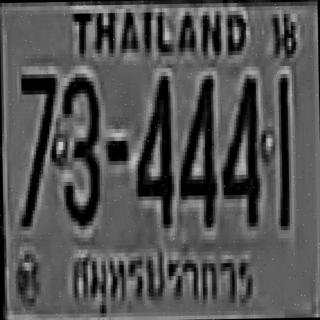N01: (276, 72, 290, 228)
N03: (58, 73, 99, 222)
N04: (176, 71, 215, 224), (134, 70, 172, 222), (219, 73, 258, 221)
N07: (18, 68, 58, 224), (19, 70, 57, 198)
P57: (69, 236, 258, 320)
